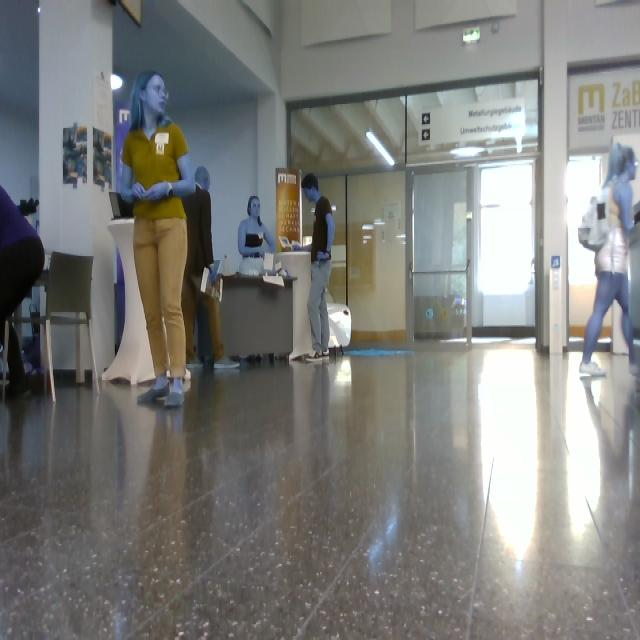desk: (4, 253, 103, 408), (220, 277, 297, 357)
door: (289, 77, 539, 344), (304, 200, 315, 240)
light bulb: (367, 130, 394, 166), (111, 74, 123, 90)
person: (123, 73, 196, 408), (577, 145, 637, 377), (183, 169, 241, 377), (1, 186, 45, 346), (302, 174, 335, 361), (239, 196, 275, 277), (8, 328, 24, 386)
pillar: (40, 1, 116, 376), (538, 1, 569, 354), (54, 326, 90, 369)
staircase: (630, 202, 640, 370)
table: (103, 220, 155, 385), (277, 252, 311, 358)
tiled floor: (1, 345, 640, 640)
